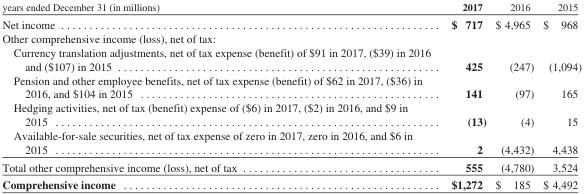table: (1, 0, 581, 190)
table column: (1, 0, 440, 190), (440, 0, 490, 190), (490, 0, 537, 190), (537, 0, 581, 190)
table column header: (1, 0, 581, 14)
table projected row header: (1, 31, 581, 44)
table row: (1, 128, 581, 157), (1, 44, 581, 72), (1, 72, 581, 100), (1, 100, 581, 128), (1, 157, 581, 175), (1, 14, 581, 31), (1, 175, 581, 190), (1, 0, 581, 14), (1, 31, 581, 44)
